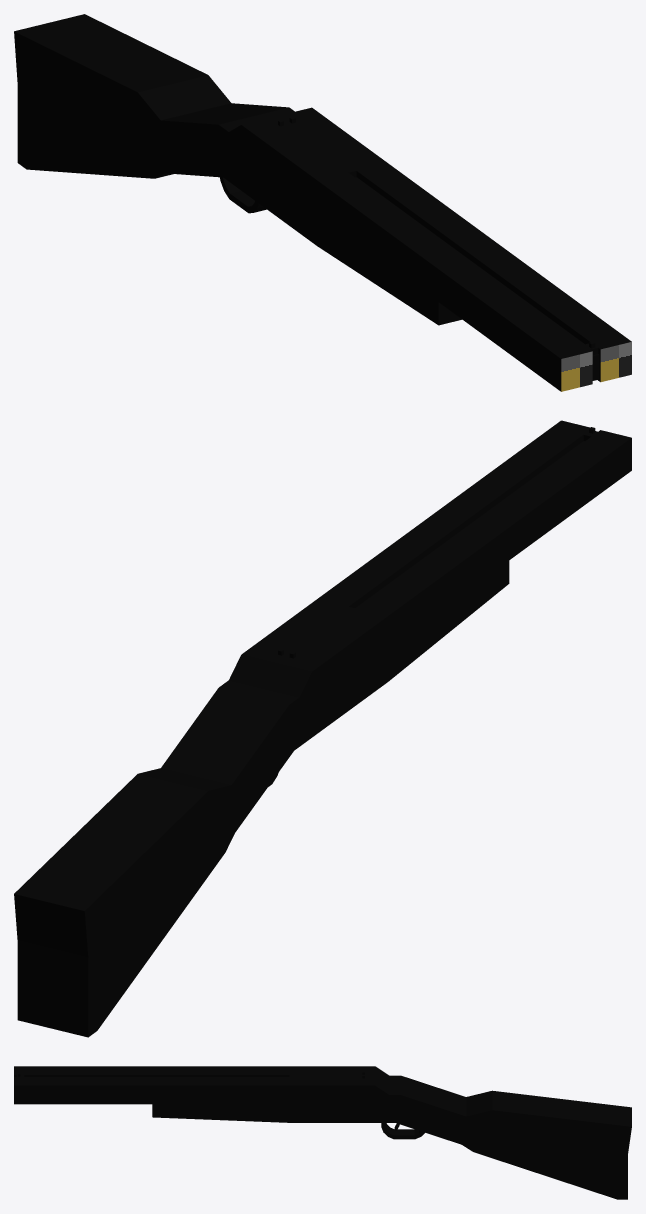
File: shotgun.obj
3 renders of one model, top to bottom at view 1: azimuth 30°, elevation 25°; view 2: azimuth 150°, elevation 25°; view 3: azimuth 270°, elevation 25°, orthographic. The views are drawn at different scales.
Visible parts, largest first — view 1: barrel, cube; view 2: cube, barrel; view 3: cube, barrel.
Boxes of the visible parts, left/top/right/bottom form: barrel: left=257, top=119, right=631, bottom=391; cube: left=14, top=14, right=327, bottom=216; cube: left=14, top=643, right=348, bottom=1037; barrel: left=257, top=420, right=631, bottom=710; cube: left=334, top=1066, right=631, bottom=1199; barrel: left=14, top=1066, right=357, bottom=1122.
Bounding box in the file's own units: 0.0823 × 0.229 × 1.1.
